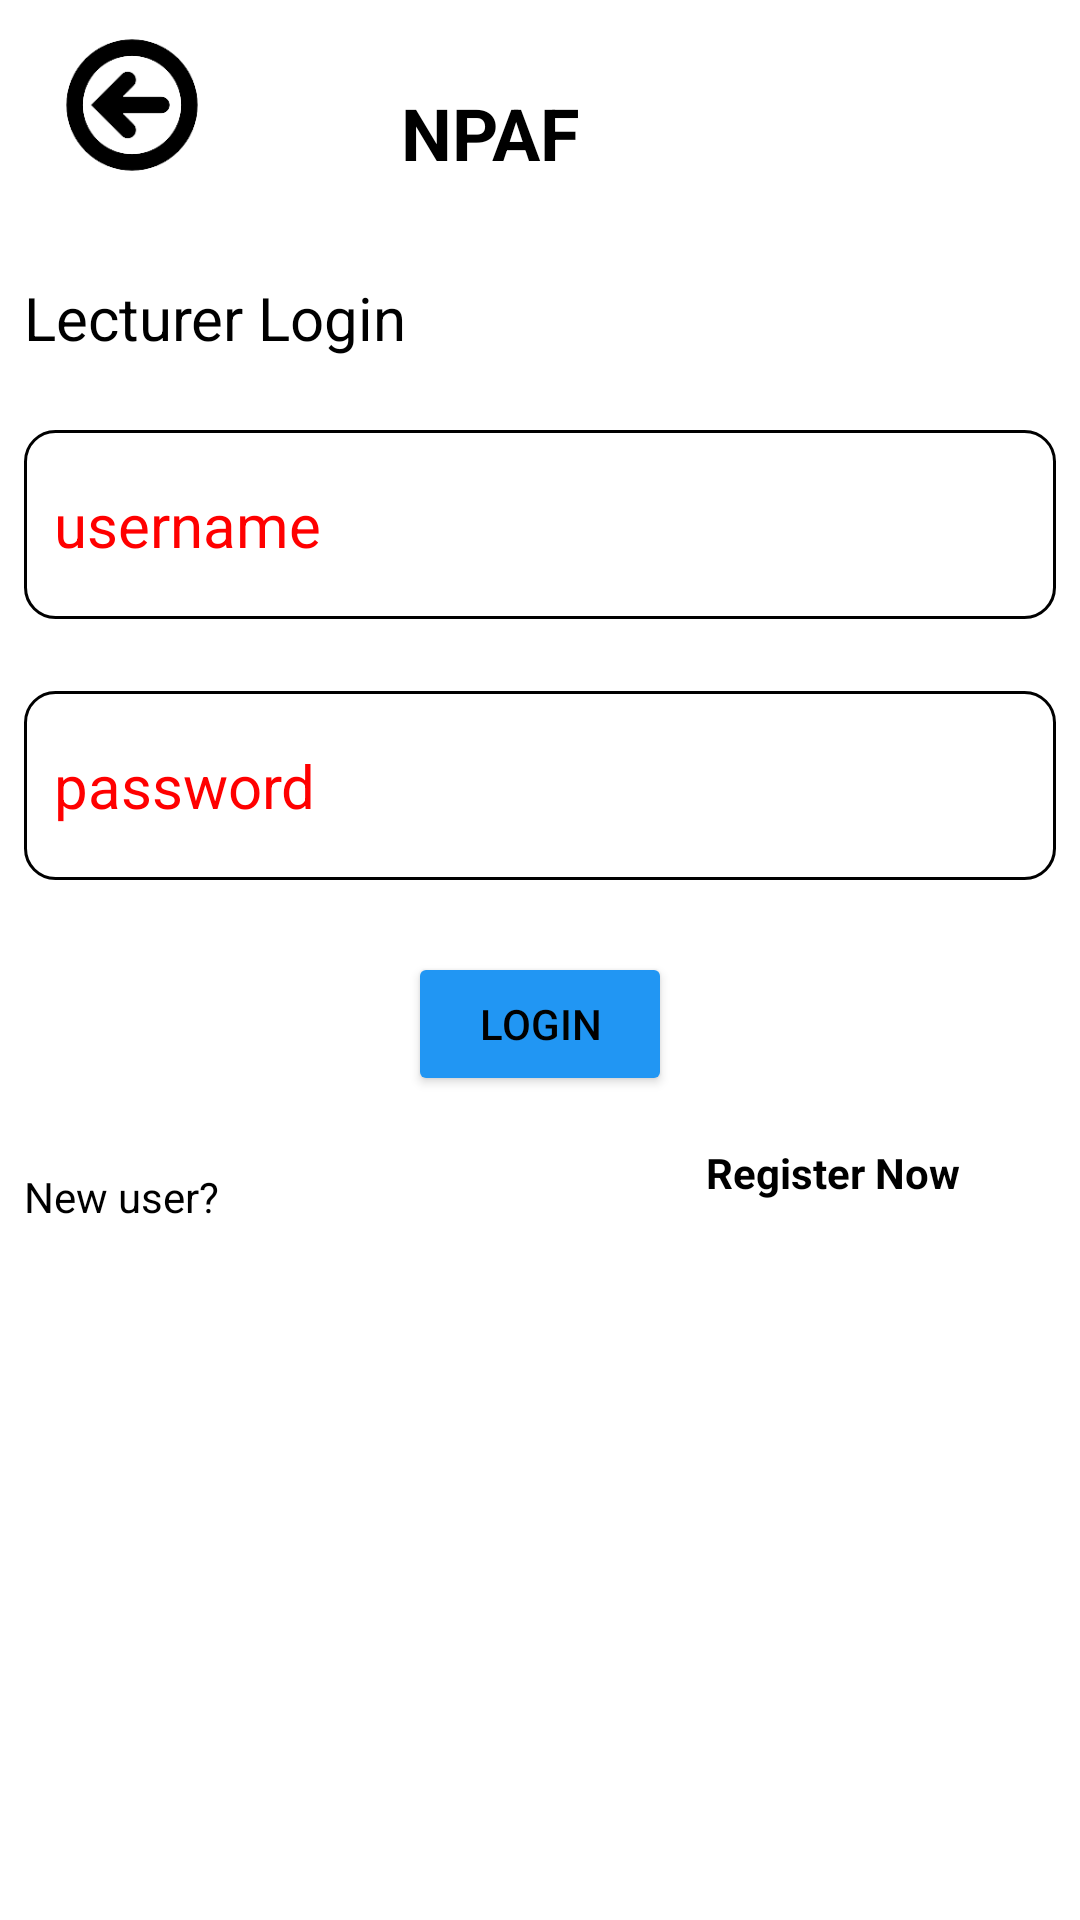

Icon click points for this 1080px x 1920px phone screenshot, format [x,y]:
backbutton: [132,105]
